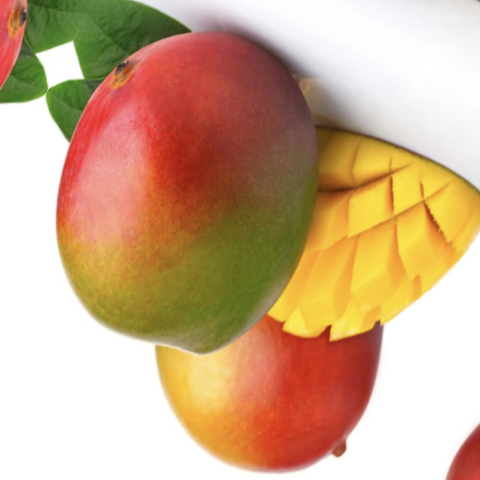mango: (0, 0, 394, 405), (86, 169, 453, 480)
